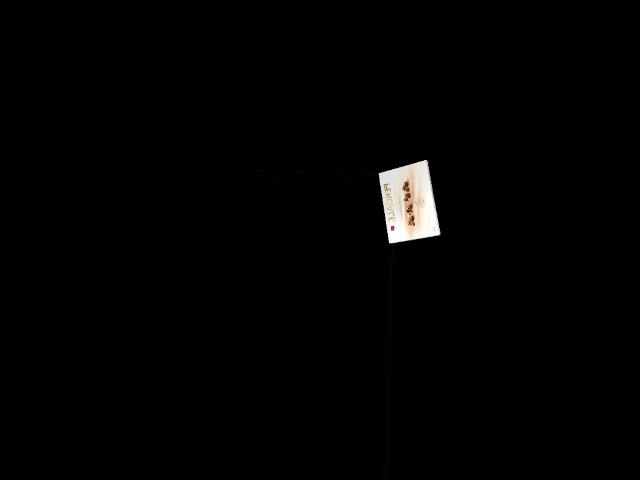chocolate: (377, 162, 445, 241)
